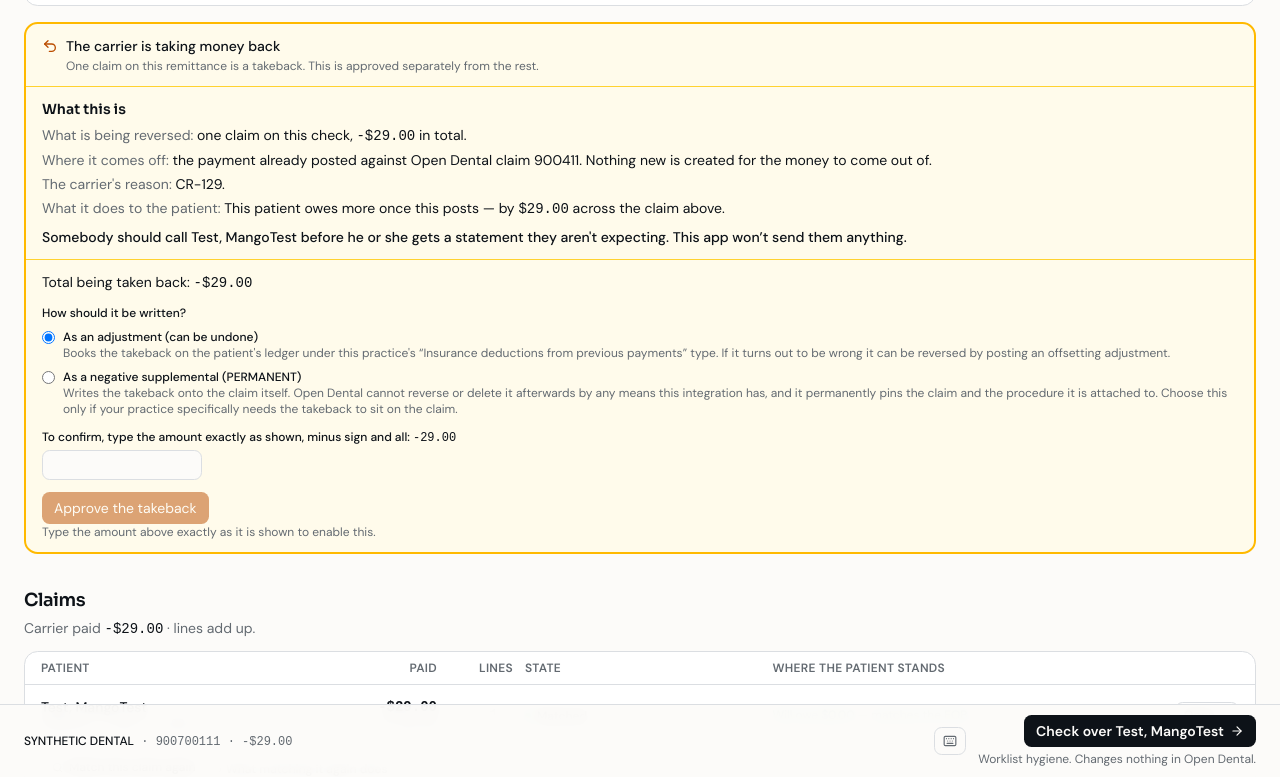
Test case: 2 · the takeback lane › 2.5 the permanent path is never one click away; declining is focused and costs nothing
(page scrolled)
Expected: the field with test id "recoupment-confirm-input" is enabled, [42,450,202,480]
Click the 2nd radio button at {"x": 48, "y": 378}, box [42,371,55,384]
(page scrolled)
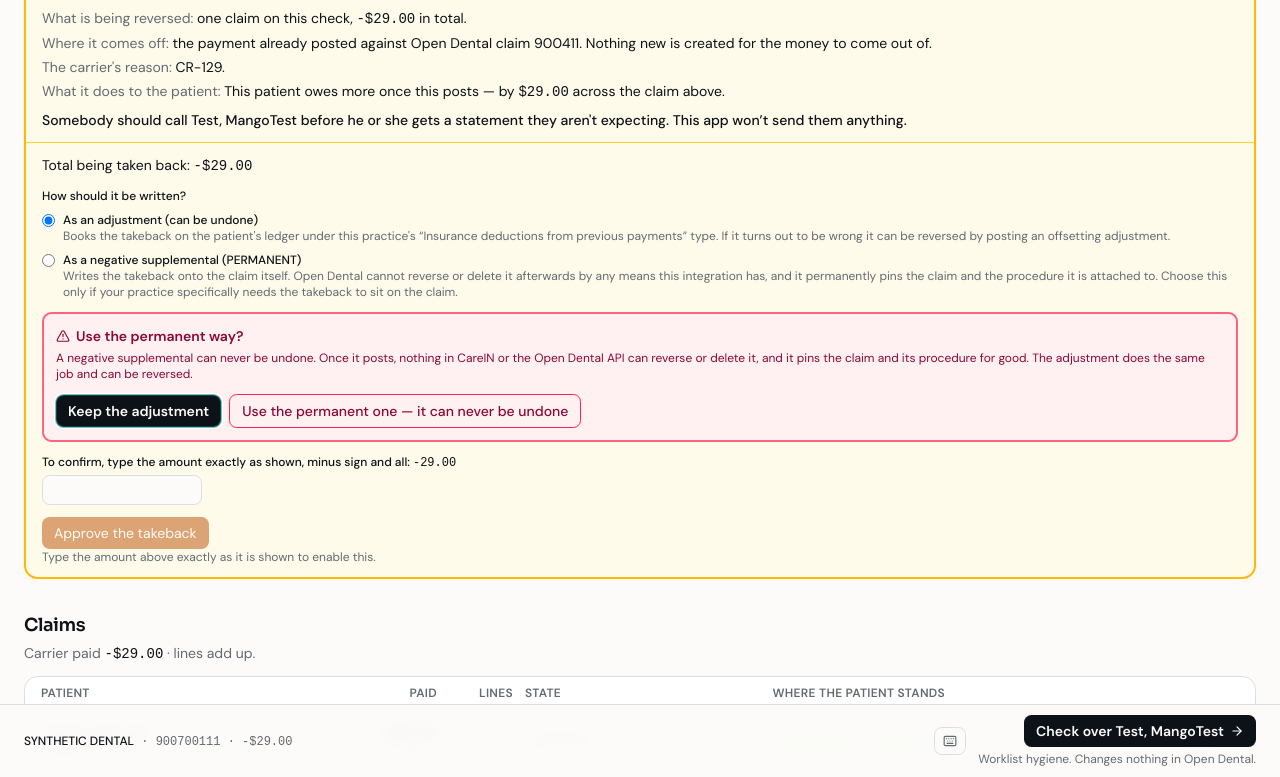
Expected: the radio button with test id "recoupment-path-adjustment" is checked, [42,214,55,227]
Now the button with test id "recoupment-permanent-yes" reads "Use the permanent one — it can never be undone", box [229,394,581,428]
Click the button with test id "recoupment-permanent-cancel" at {"x": 139, "y": 411}, box [56,395,221,427]
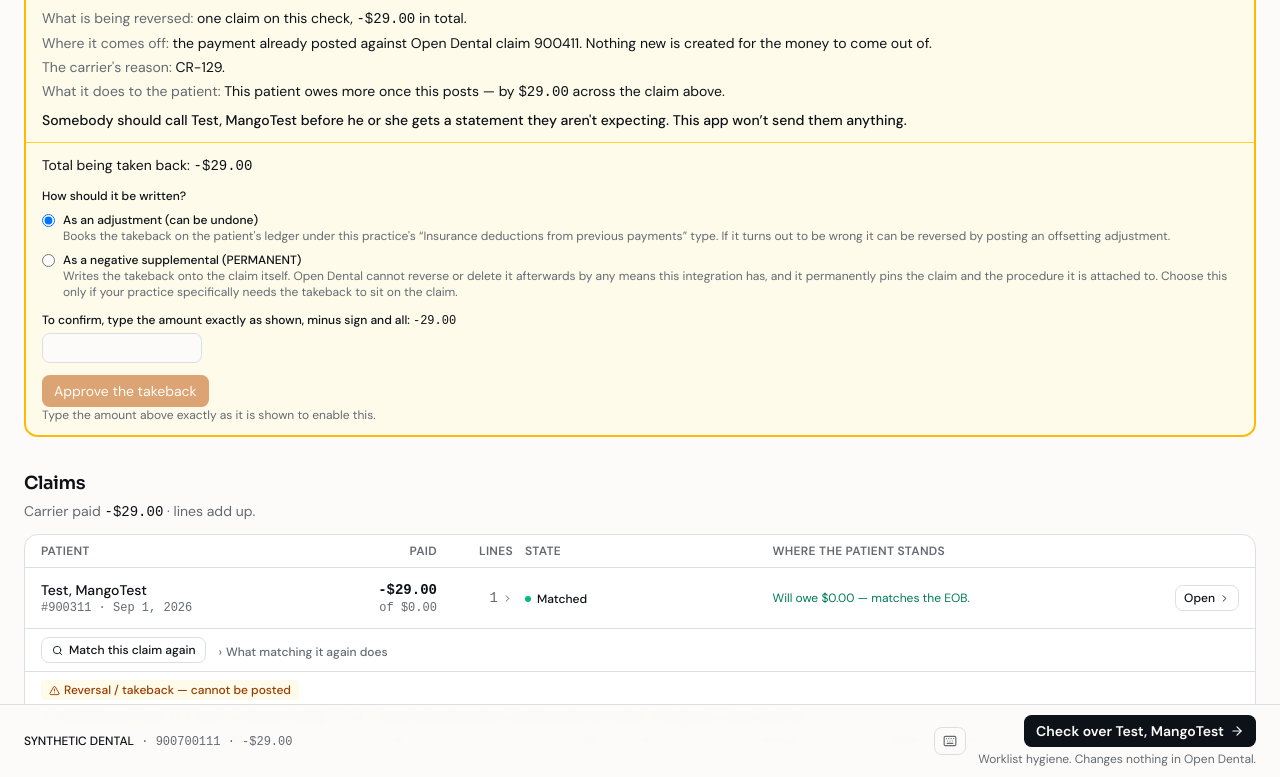
Expected: the radio button with test id "recoupment-path-adjustment" is checked, [42,214,55,227]
Now the element with test id "recoupment-permanent-confirm" is gone
